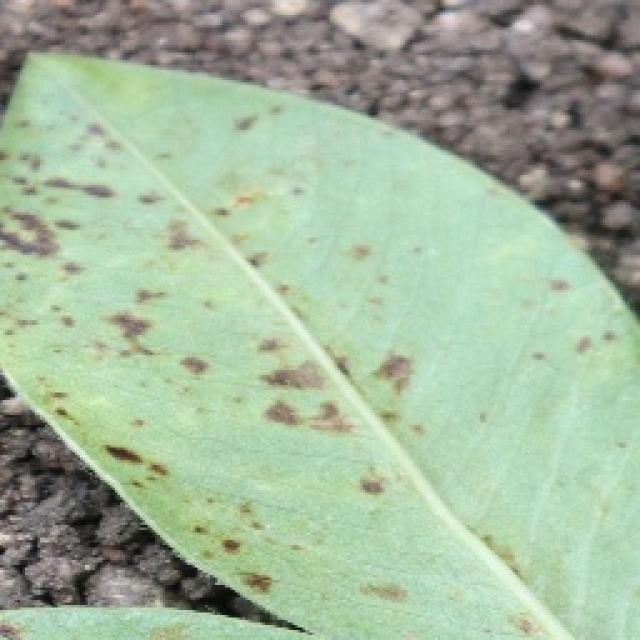Whitefly: (0, 50, 510, 628)
